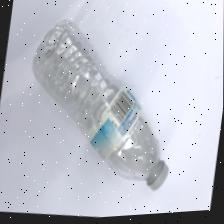plastic: (27, 21, 170, 191)
